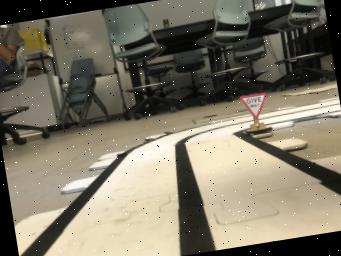give_way: (239, 93, 273, 139), (239, 93, 273, 139), (239, 93, 273, 139)
street: (17, 119, 341, 256), (17, 119, 341, 256), (17, 119, 341, 256)
